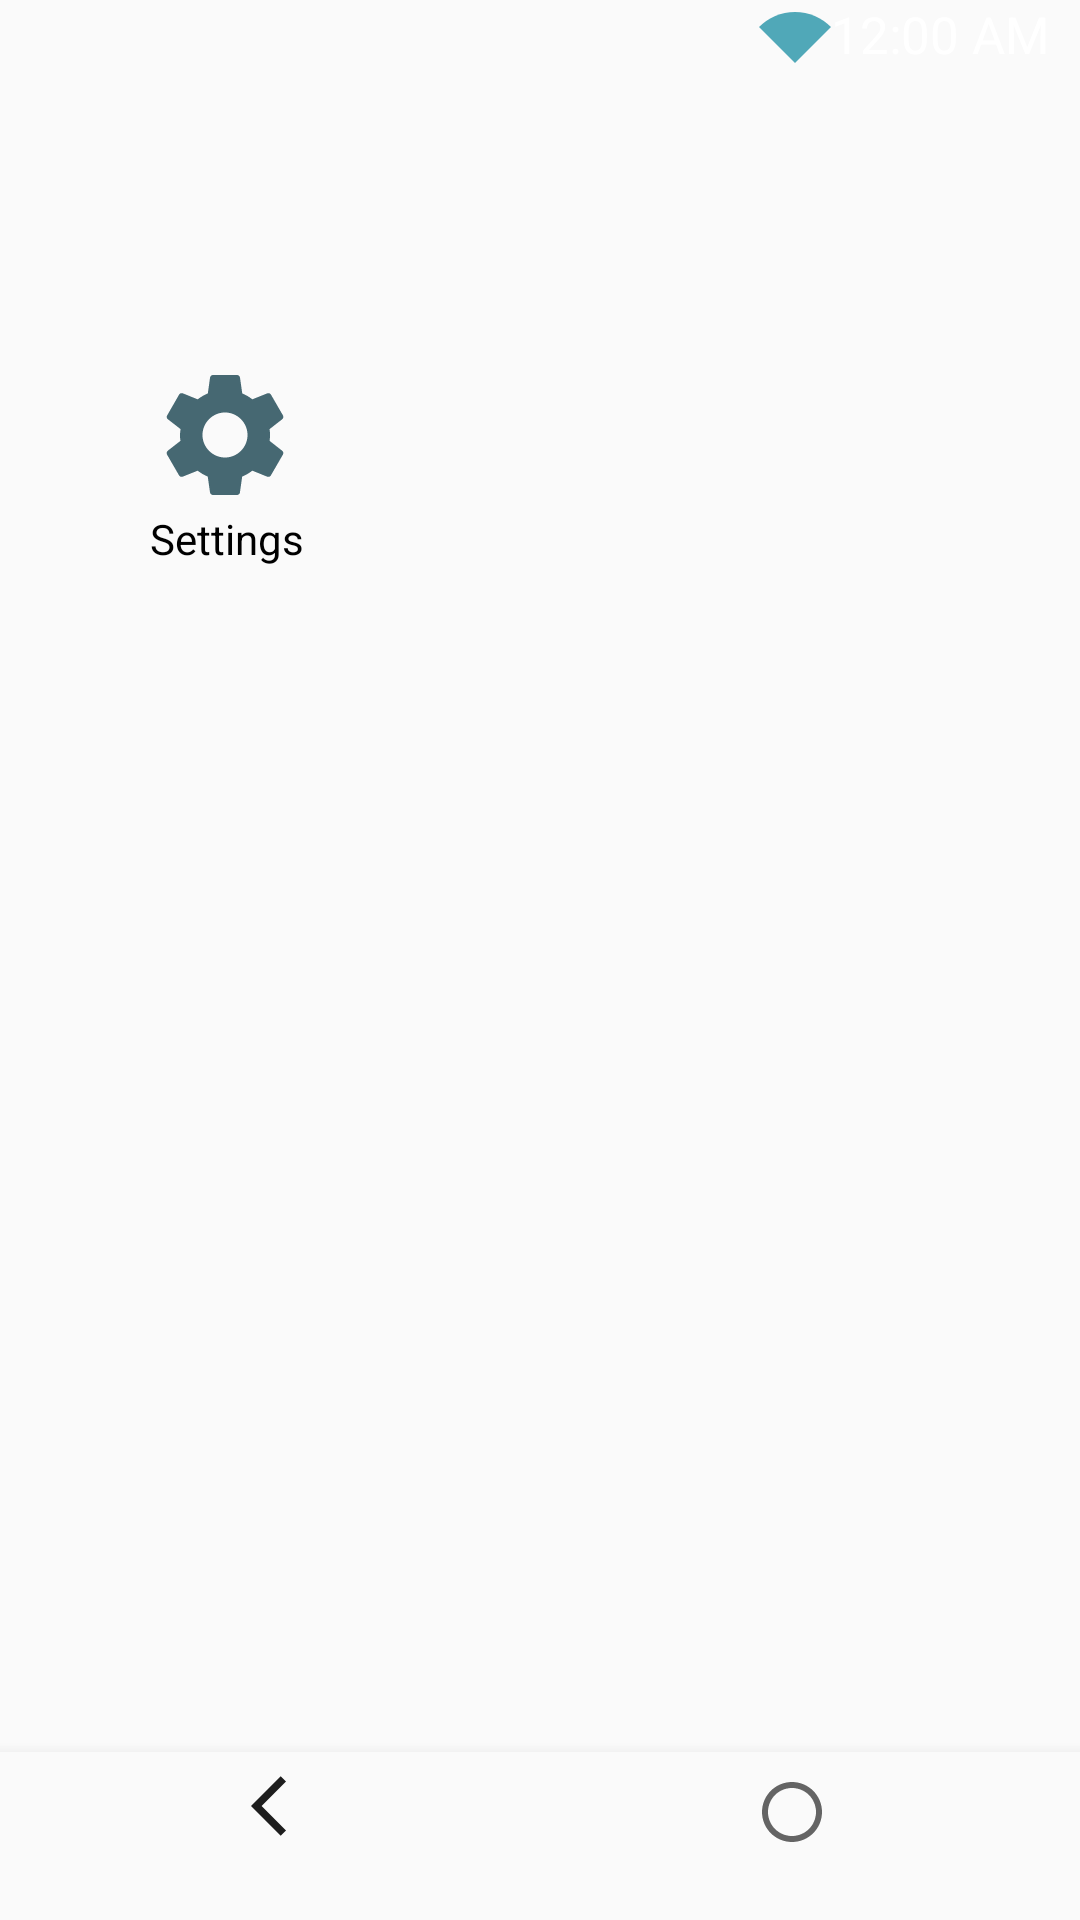

Icons on this 1080*1920 Android screen, each with its box as bbox=[x1, y1, x2, y2]:
wifi: bbox=[759, 12, 831, 63]
